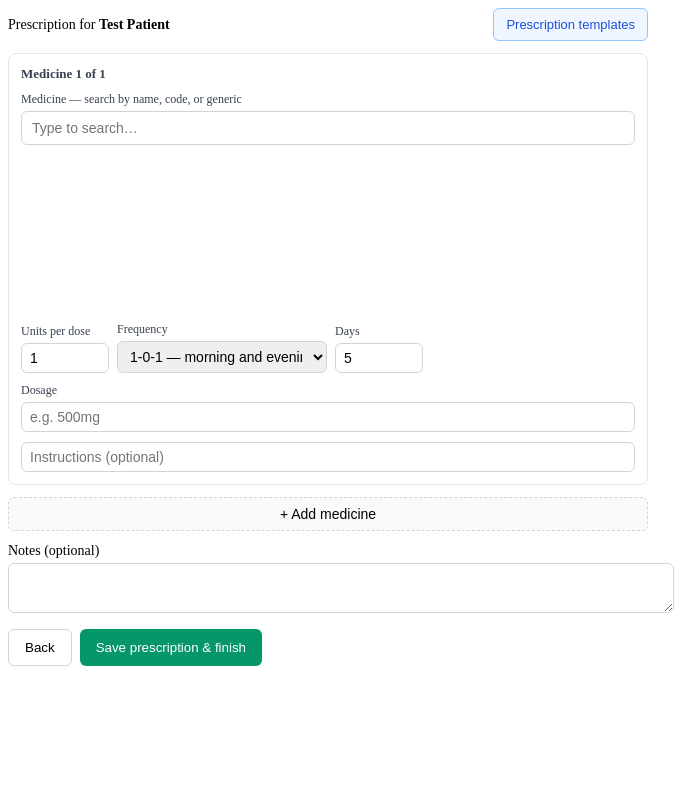
Scenario: PrescriptionWriter › rejects an incomplete row instead of silently dropping it
Focus the field named "medicine" at (328, 128), box [21,111,635,145]
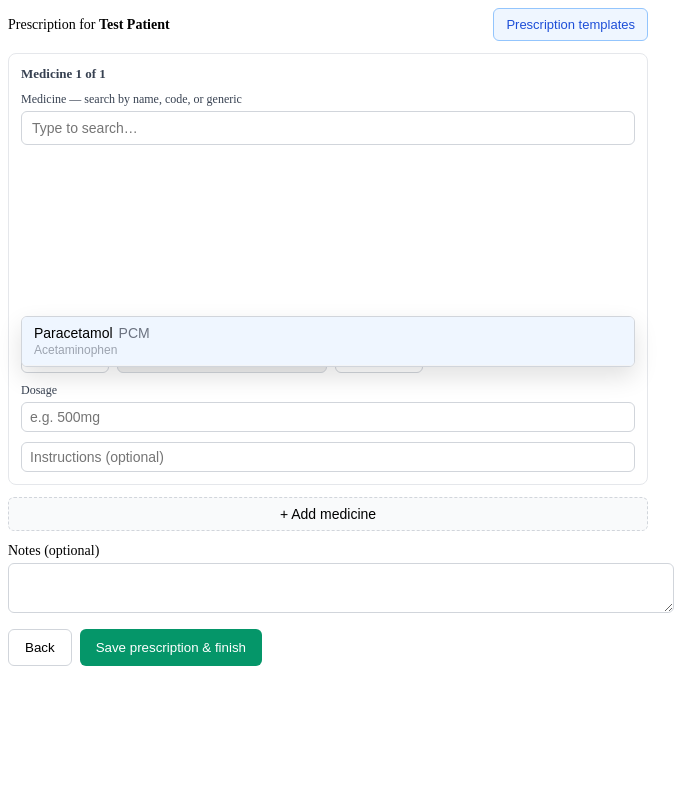
Click the button "Paracetamol".
click(73, 333)  # box [22,317,634,366]
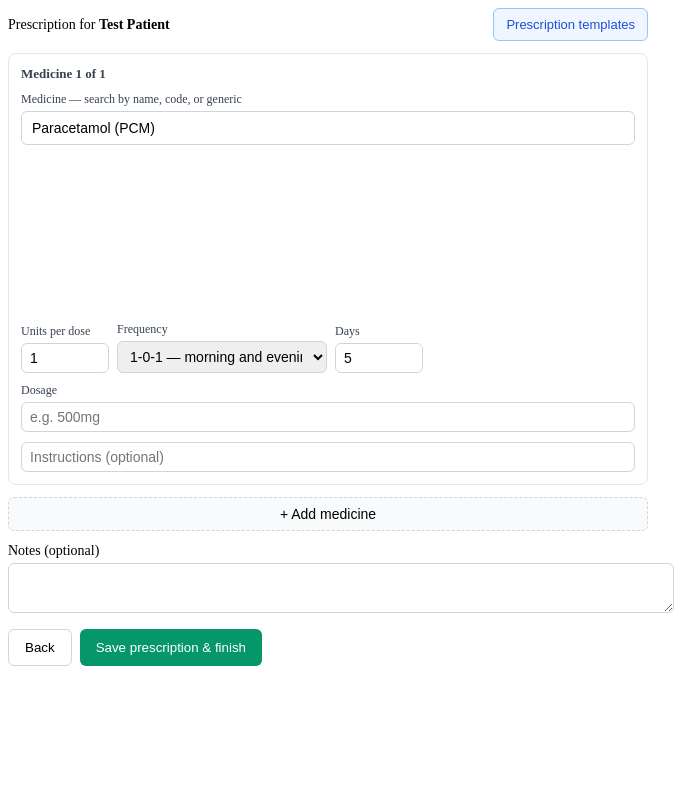
Click the button "+ Add medicine".
click(328, 514)  # box [8,497,648,531]
(page scrolled)
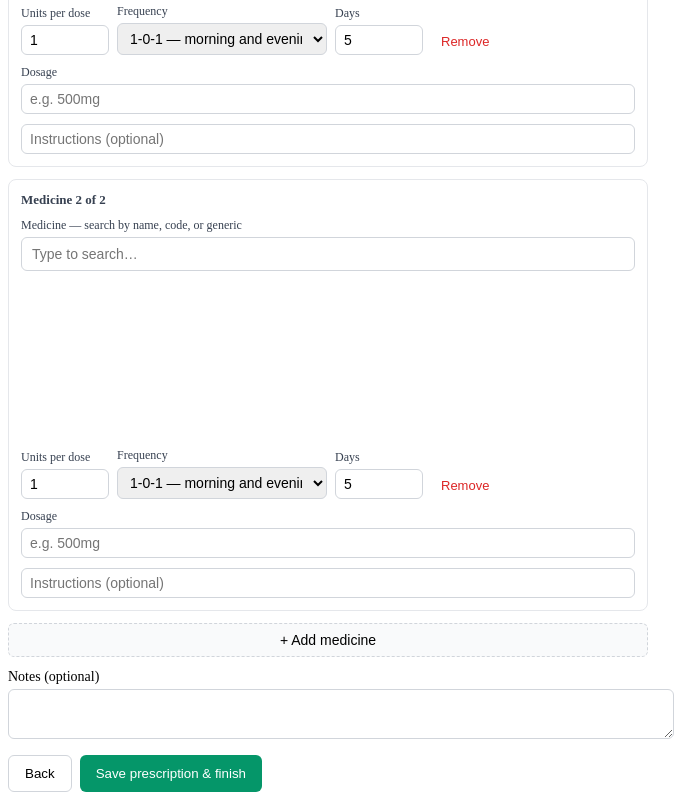
Expected: the text "Medicine 2 of 2" is shown, [21,192,106,207]
Expected: the number of number fields labelled "Units per dose" is 2, [21,25,109,55]; [21,469,109,499]
Expected: the number of dropdowns labelled "Frequency" is 2, [117,23,327,55]; [117,467,327,499]
Click the button "Save prescription & finish".
click(171, 774)  # box [80,755,262,792]
(page scrolled)
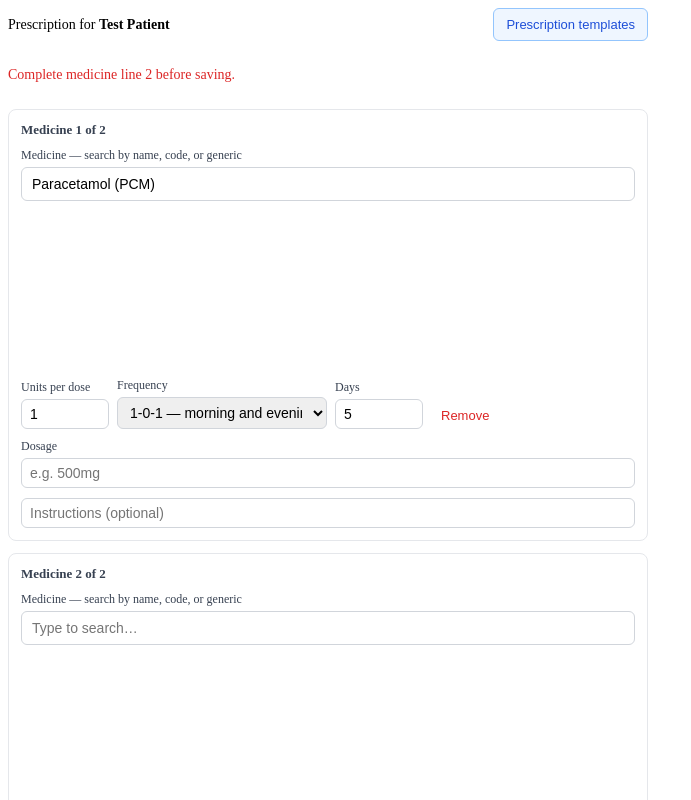
Expected: the message reads "Complete medicine line 2 before saving.", [8,67,235,82]
